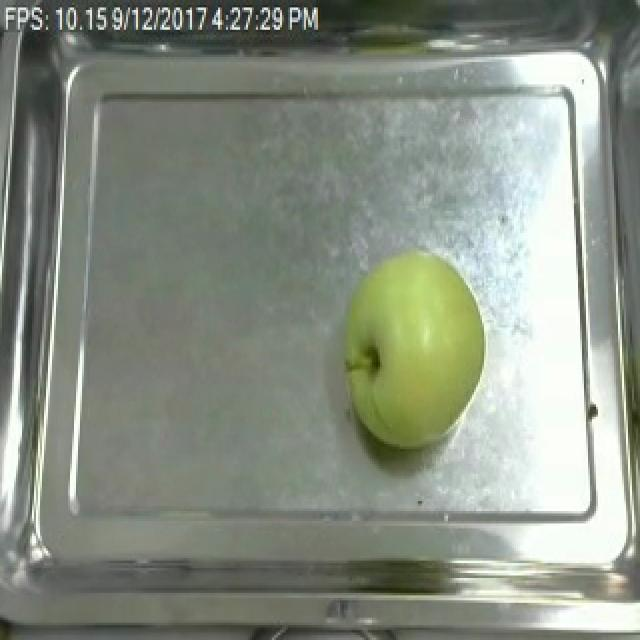50-_ripeness: (331, 244, 495, 456)
